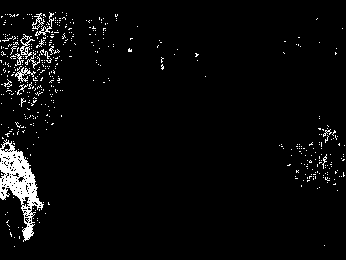person: (1, 141, 41, 240)
